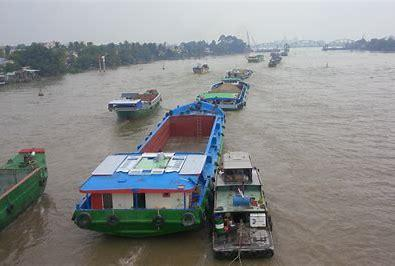Ship: (74, 99, 230, 242), (215, 151, 278, 260), (1, 147, 51, 231), (107, 83, 162, 118), (199, 81, 253, 111), (225, 63, 258, 81), (193, 61, 213, 77)
